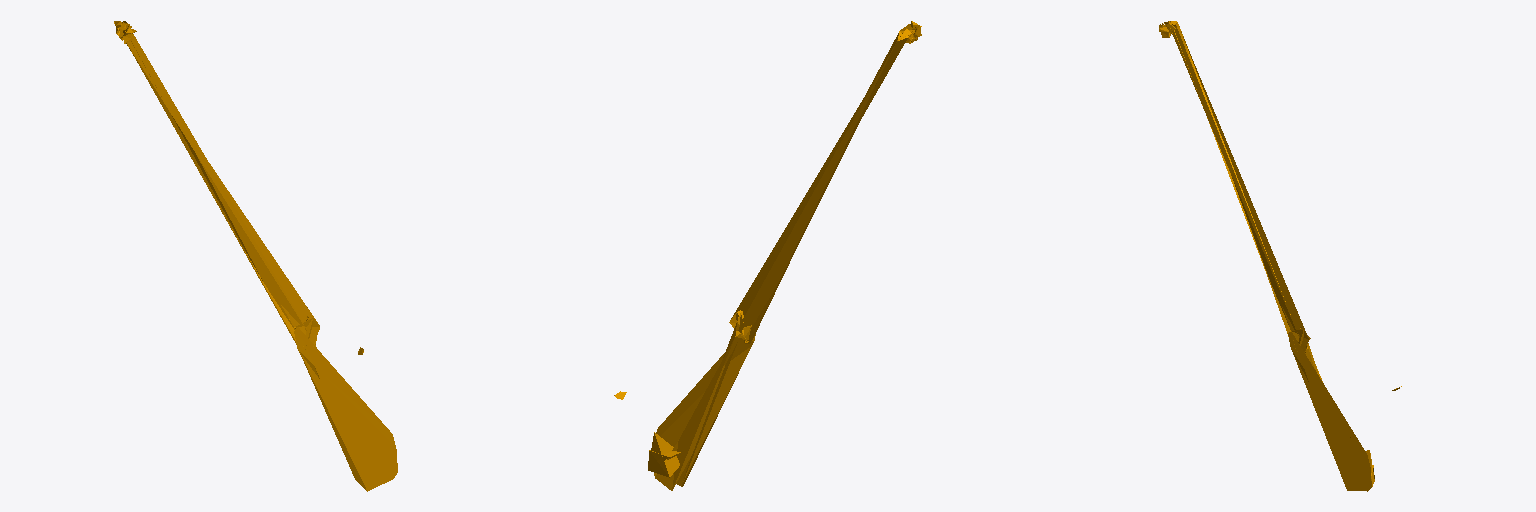
URDF robot description (urdf_robot):
<?xml version="1.0" ?>
<robot name="urdf_robot">
  <link name="baseLink">
    <visual>
      <origin rpy="0 0 0" xyz="0 0 0"/>
      <geometry>
				<mesh filename="forest.obj" scale="1 1 1"/>      
      </geometry>
      <material name="texture_material">
        <texture filename="./forest/forest.png" />
    </material>
    </visual>
  </link>
</robot>

--- Facts derived from the render (not from the file) ---
3 views of the same robot in one strip: view 1: azimuth 30°, elevation 25°; view 2: azimuth 150°, elevation 25°; view 3: azimuth 330°, elevation 25° (orthographic).
Model urdf_robot with 1 links and 0 joints (none), rooted at baseLink, posed every joint at zero.
Links seen in each view (by area): view 1: baseLink; view 2: baseLink; view 3: baseLink.
Boxes of the visible links, left/top/right/bottom form: baseLink: left=114, top=21, right=397, bottom=491; baseLink: left=614, top=21, right=921, bottom=490; baseLink: left=1159, top=21, right=1401, bottom=491.
Size in the robot's own frame: 10.1 by 2.39 by 18.43 metres.
Meshes: 1 distinct files referenced, 1 mesh visuals loaded (1 OBJ).